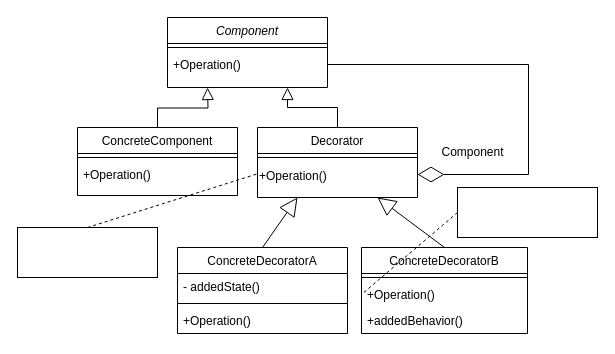
Image size: 615x354. Some labels were removed from this diagram. Each missing label, with the centre of its shape:
component.operation(): [87,252]
super.operation() addedBehavior(): [527,212]
